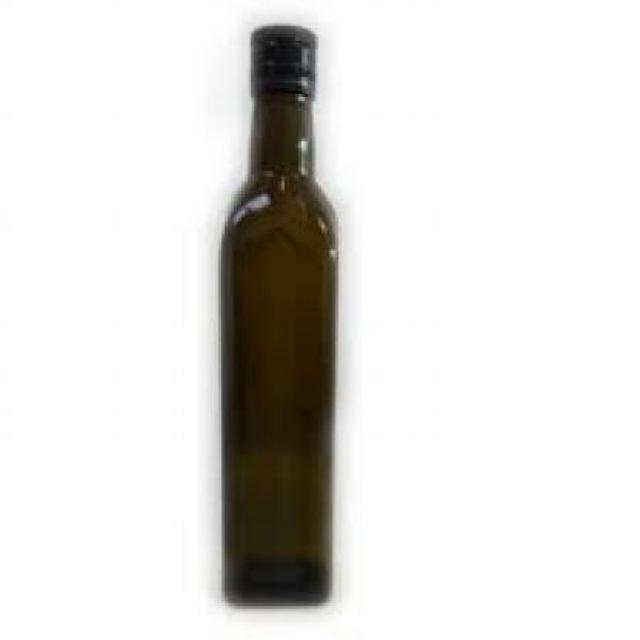kaca: (220, 26, 334, 606)
